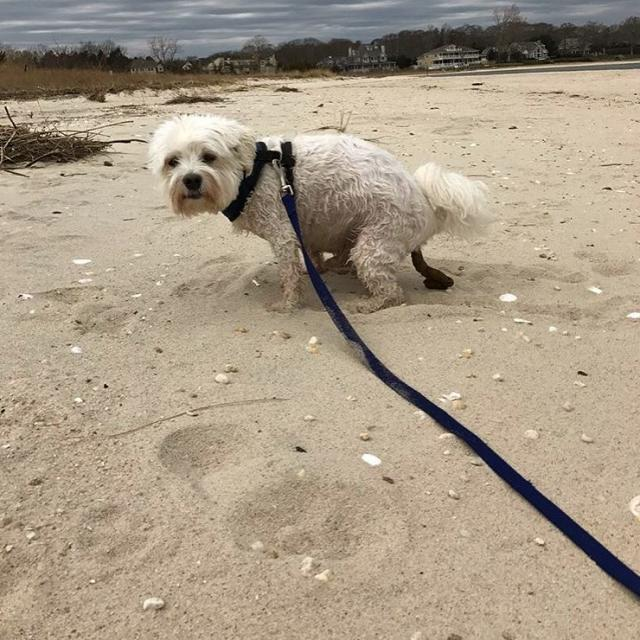squatting: (142, 110, 498, 319)
